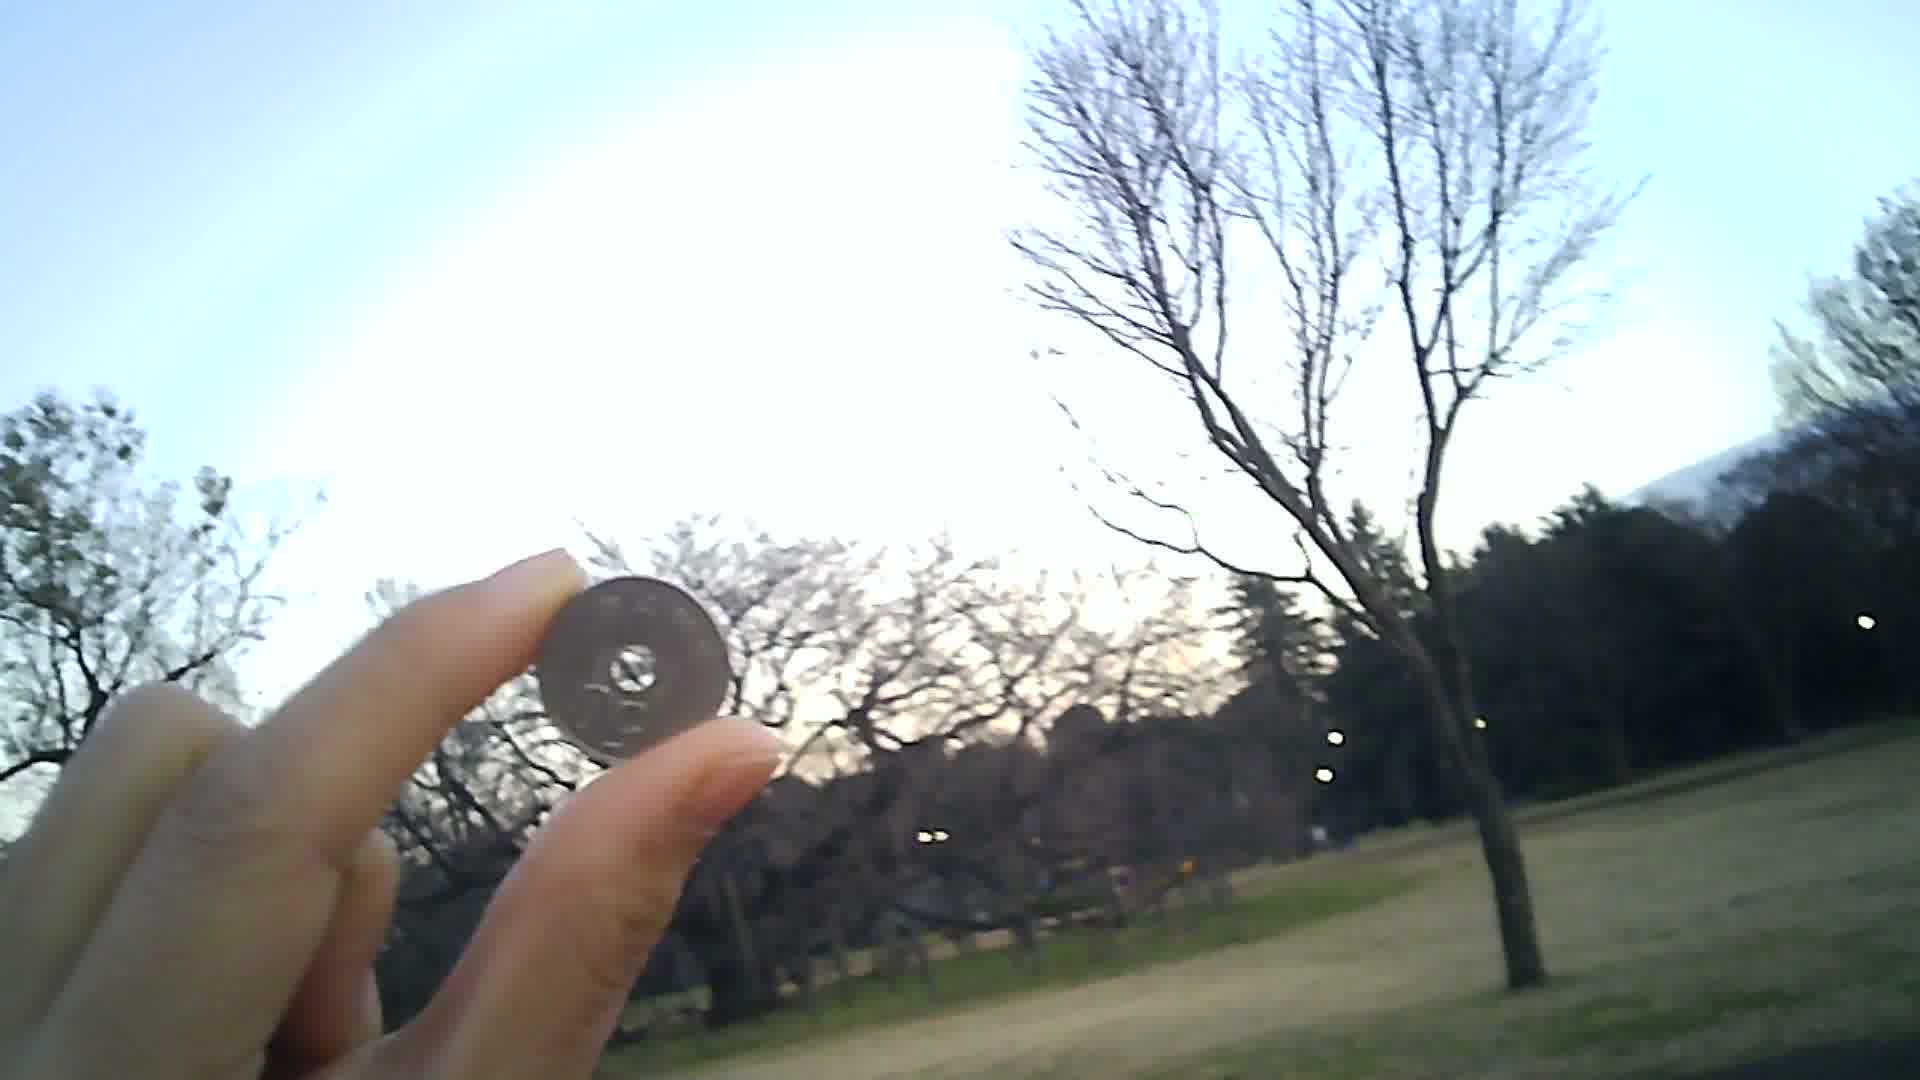50 Yen: (535, 574, 736, 769)
